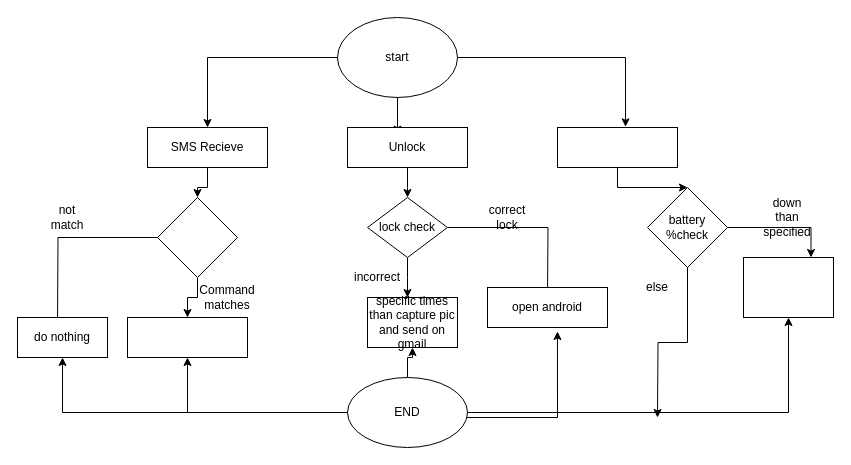
Image size: 851x465. Some labels were removed from this diagram. Here are the shapes that lost their labels. From the top down, the centre of each, then its label:
the point at 617,147: Battery Percentage
the point at 197,237: sms check
the point at 788,287: send location on sms on emergency number
the point at 187,337: send location or alert alarm or change mode
